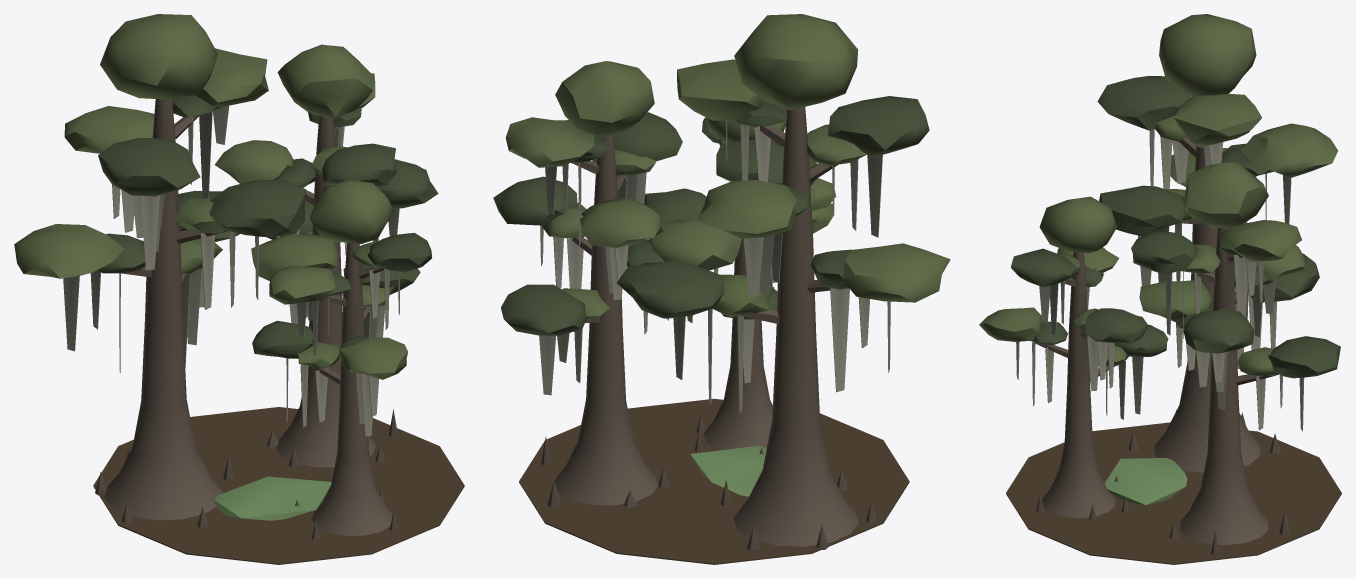
File: env_cypressGroup.glb
3 renders of one model, left to right at view 1: azimuth 30°, elevation 25°; view 2: azimuth 150°, elevation 25°; view 3: azimuth 270°, elevation 25°, orthographic. The views are drawn at different scales.
Visible parts, largest first — view 1: env_cypressGroup; view 2: env_cypressGroup; view 3: env_cypressGroup.
Part boxes in pixels (x1,y1,x2,y2): env_cypressGroup: [14, 14, 464, 564]; env_cypressGroup: [493, 14, 950, 564]; env_cypressGroup: [979, 14, 1341, 564].
Bounding box in the file's own units: 7.71 × 8.48 × 6.48.
